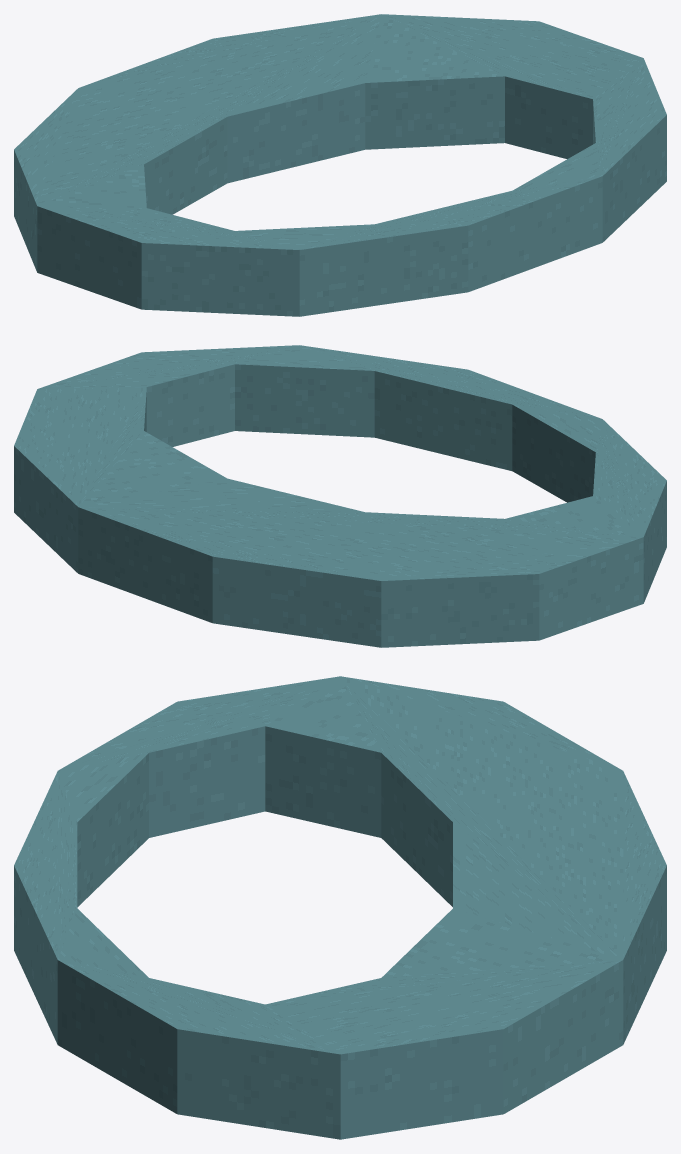
Rendered from mouthpiece.glb.
The picture shows the model from 3 angles, top to bottom: view 1: azimuth 30°, elevation 25°; view 2: azimuth 150°, elevation 25°; view 3: azimuth 270°, elevation 25°; orthographic projection. The views are drawn at different scales.
Visible parts, largest first — view 1: block_mouthguard; view 2: block_mouthguard; view 3: block_mouthguard.
Part boxes in pixels (x1,y1,x2,y2): block_mouthguard: (14, 14, 666, 316); block_mouthguard: (14, 345, 666, 647); block_mouthguard: (14, 676, 666, 1139).
Bounding box in the file's own units: 0.1895 × 0.0199 × 0.1382.
1 material, 1 textured.
